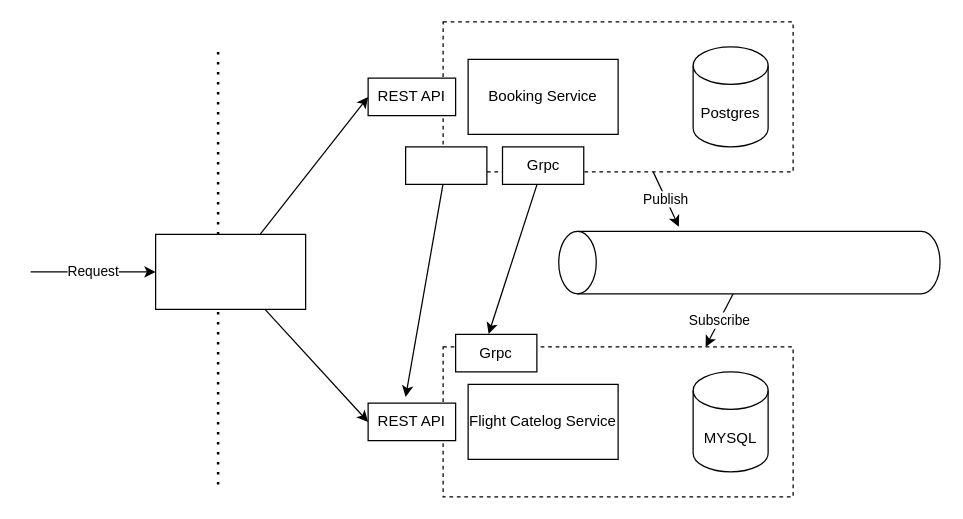
Some shapes in this 963 by 519 pixel diagram are drawn without their labels. The shapes that lost their labels are listed below. From the top down, each one's centre as x and y in pixels, then its label:
pixel 445 165: HTTP Client
pixel 230 271: API Gateway
pixel 749 262: Rabbit MQ
